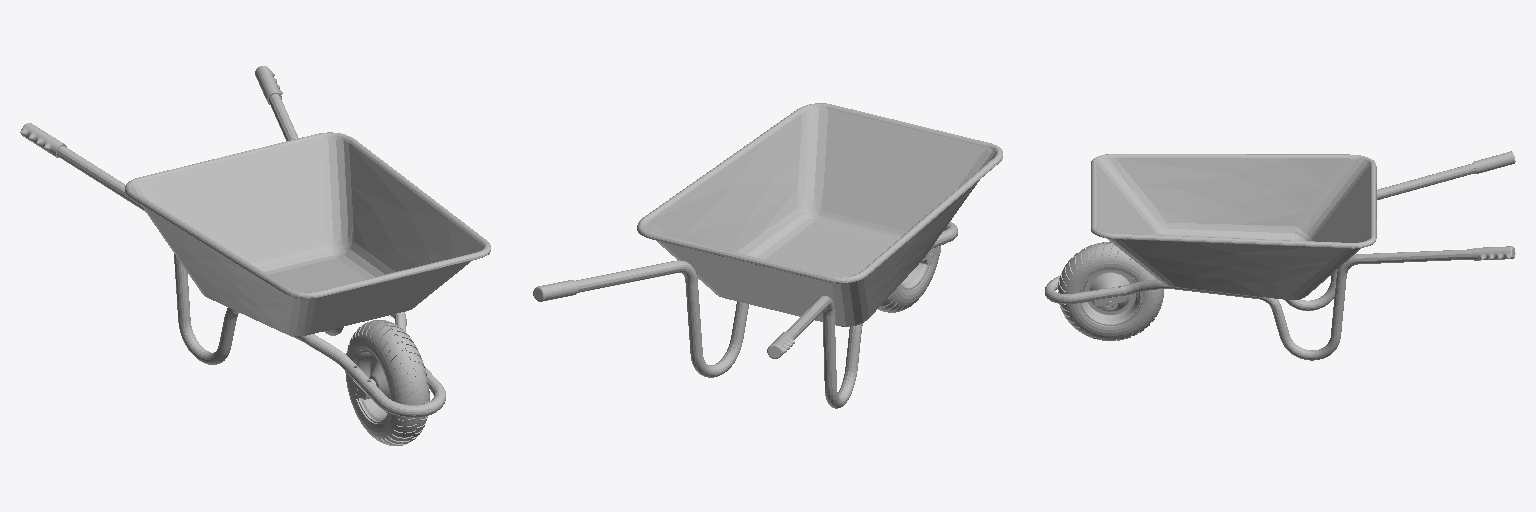
robot.urdf — wheel_borrow:
<?xml version="1.0" encoding="utf-8"?>
<!-- This URDF was automatically created by SolidWorks to URDF Exporter! Originally created by [author] ([email redacted]) 
     Commit Version: 1.6.0-1-g15f4949  Build Version: 1.6.7594.29634
     For more information, please see http://wiki.ros.org/sw_urdf_exporter -->
<robot
  name="wheel_borrow">
  <link
    name="base_link">
    <inertial>
      <origin
        xyz="0.0786513568600749 0.148749926121572 0.254851548632769"
        rpy="0 0 0" />
      <mass
        value="0.0516484551037589" />
      <inertia
        ixx="0.000142916401153761"
        ixy="-6.30730599393341E-10"
        ixz="-1.5778674667246E-09"
        iyy="0.000187090863956827"
        iyz="7.77391759053492E-06"
        izz="7.42743287984559E-05" />
    </inertial>
    <visual>
      <origin
        xyz="0 0 0"
        rpy="0 0 0" />
      <geometry>
        <mesh
          filename="package://wheel_borrow/meshes/base_link.STL" />
      </geometry>
      <material
        name="">
        <color
          rgba="0.752941176470588 0.752941176470588 0.752941176470588 1" />
      </material>
    </visual>
    <collision>
      <origin
        xyz="0 0 0"
        rpy="0 0 0" />
      <geometry>
        <mesh
          filename="package://wheel_borrow/meshes/base_link.STL" />
      </geometry>
    </collision>
  </link>

<gazebo reference="base_link">
    <material>Gazebo/Red</material>
</gazebo>
</robot>

--- What the picture shows (computed from the rendered views, not written in the file) ---
The picture shows the robot from 3 angles, left to right: view 1: azimuth 30°, elevation 25°; view 2: azimuth 150°, elevation 25°; view 3: azimuth 270°, elevation 25°; orthographic projection.
Model wheel_borrow with 1 links and 0 joints (none), rooted at base_link, posed all joints at 0.
Links seen in each view (by area): view 1: base_link; view 2: base_link; view 3: base_link.
Boxes of the visible links, x1=… form: base_link: x1=20, y1=66, x2=490, y2=445; base_link: x1=533, y1=103, x2=1002, y2=408; base_link: x1=1045, y1=151, x2=1515, y2=360.
Bounding box of the posed robot: 0.1403 × 0.2723 × 0.0932 m (x, y, z).
1 mesh visuals loaded from 1 distinct referenced files (1 binary STL).